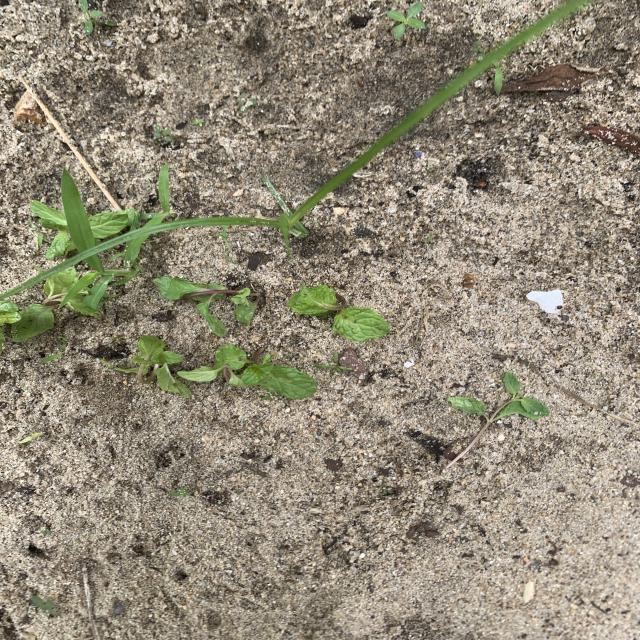crop: (445, 371, 549, 469), (177, 345, 317, 399), (153, 276, 262, 337), (288, 284, 389, 342), (102, 335, 192, 398), (12, 268, 78, 342), (30, 201, 76, 259), (88, 210, 133, 243), (0, 300, 19, 354), (70, 294, 98, 315)
weed: (0, 0, 590, 300), (61, 239, 144, 310), (61, 169, 95, 251), (139, 165, 171, 227), (386, 0, 425, 40), (77, 0, 108, 34), (30, 595, 59, 618), (316, 353, 346, 374), (220, 226, 236, 264), (42, 342, 68, 364), (29, 220, 44, 249), (237, 93, 258, 113), (152, 125, 173, 144), (19, 431, 44, 445), (169, 487, 199, 498), (494, 64, 503, 96), (473, 40, 485, 58), (192, 118, 205, 127), (423, 237, 433, 244)
